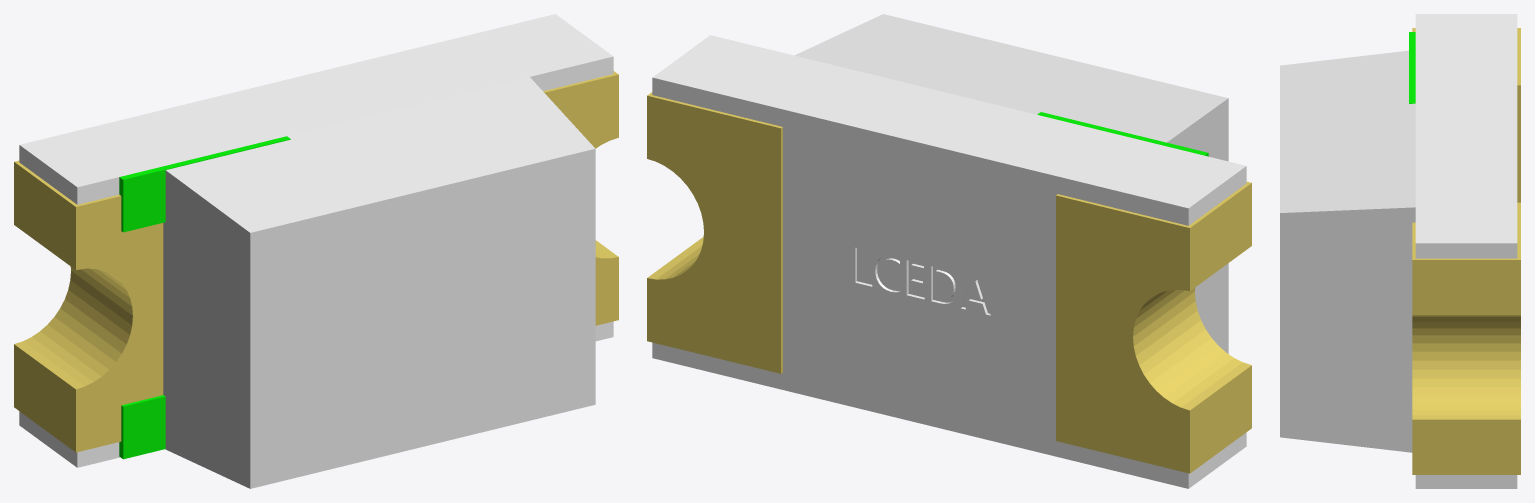
The model's file is FrozenR6-LED2.glb.
3 views of the same model, side by side, from view 1: azimuth 30°, elevation 25°; view 2: azimuth 150°, elevation 25°; view 3: azimuth 270°, elevation 25° (orthographic). The views are drawn at different scales.
Visible parts, largest first — view 1: LED2_352a63, LED2_9630a8, LED2_4ca725, LED2_6bbf44; view 2: LED2_9630a8, LED2_4ca725, LED2_352a63, LED2_2dc624, LED2_6bbf44; view 3: LED2_352a63, LED2_9630a8, LED2_4ca725, LED2_6bbf44.
Part boxes in pixels (<box>): LED2_352a63: <box>163,77,595,488</box>; LED2_9630a8: <box>19,14,613,467</box>; LED2_4ca725: <box>14,71,618,452</box>; LED2_6bbf44: <box>119,136,290,459</box>; LED2_9630a8: <box>652,35,1246,488</box>; LED2_4ca725: <box>647,92,1251,473</box>; LED2_352a63: <box>794,14,1228,353</box>; LED2_2dc624: <box>855,247,989,314</box>; LED2_6bbf44: <box>1037,112,1208,156</box>; LED2_352a63: <box>1280,50,1415,452</box>; LED2_9630a8: <box>1415,14,1517,488</box>; LED2_4ca725: <box>1412,28,1520,474</box>; LED2_6bbf44: <box>1409,32,1415,103</box>.
Bounding box in the file's own units: 1.62 × 0.8 × 0.71.
